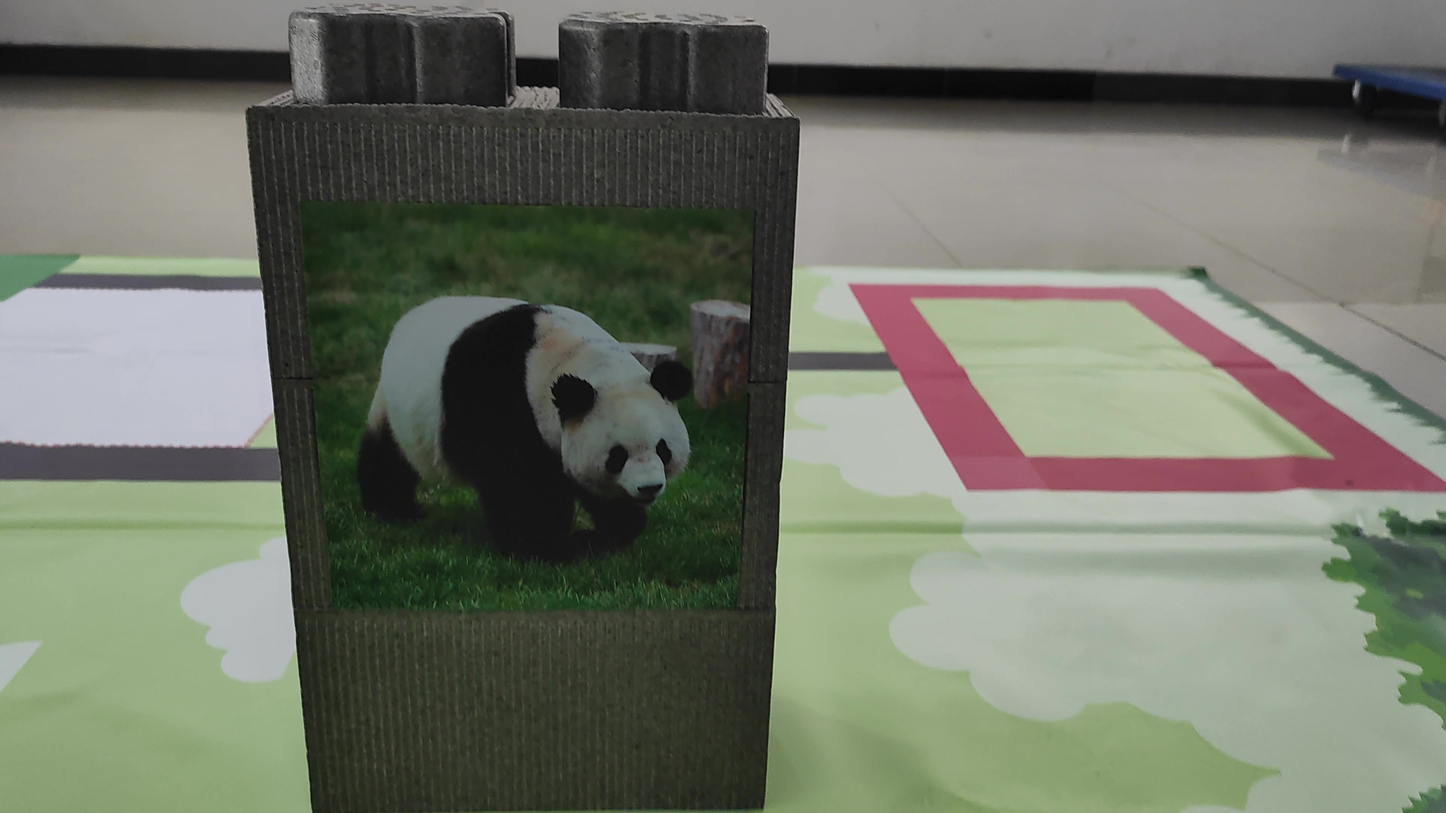panda: (323, 259, 714, 560)
